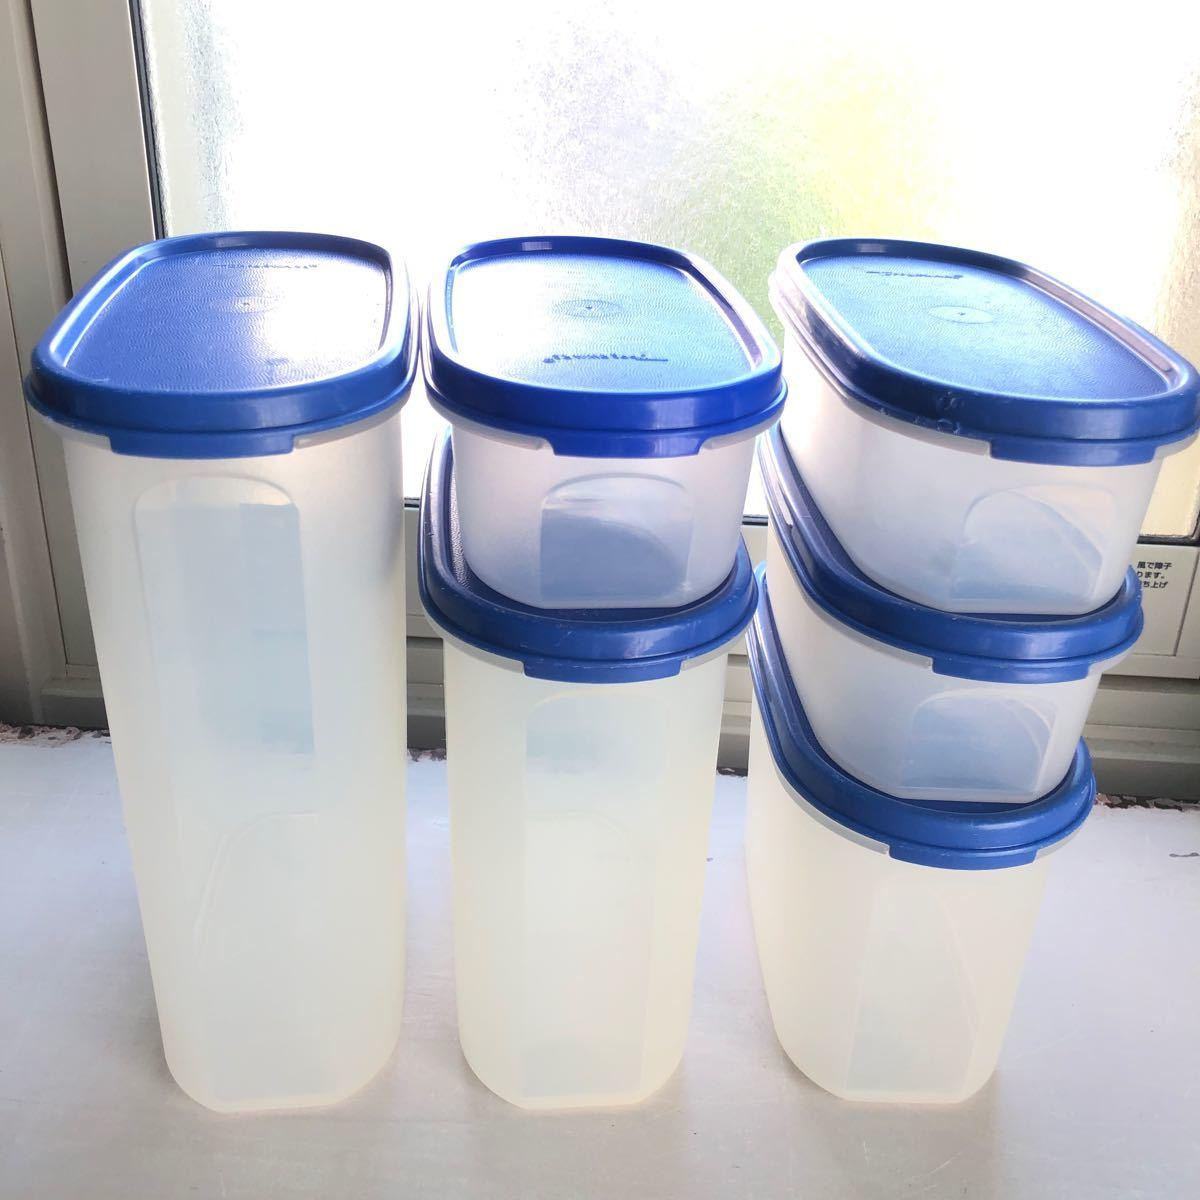plastic: (760, 238, 1190, 1114), (32, 218, 422, 1130), (420, 580, 742, 1124), (420, 224, 765, 605)
